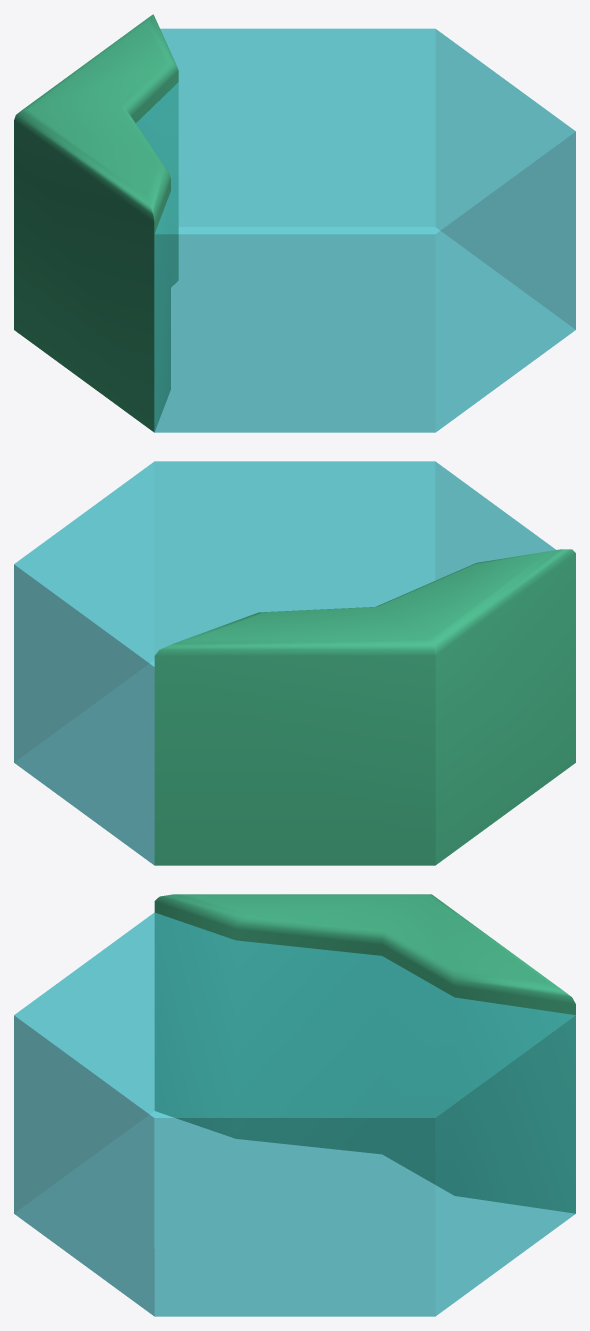
The model's file is hex_forest_waterA.fbx.
3 renders of one model, top to bottom at view 1: azimuth 30°, elevation 25°; view 2: azimuth 150°, elevation 25°; view 3: azimuth 270°, elevation 25°, orthographic.
Parts seen in each view (by area): view 1: hex_forest_waterA; view 2: hex_forest_waterA; view 3: hex_forest_waterA.
Boxes of the visible parts, x1,y1,x2,y2 form: hex_forest_waterA: [14, 14, 575, 432]; hex_forest_waterA: [14, 461, 575, 865]; hex_forest_waterA: [14, 894, 575, 1316].
Bounding box in the file's own units: 200 × 100 × 231.
